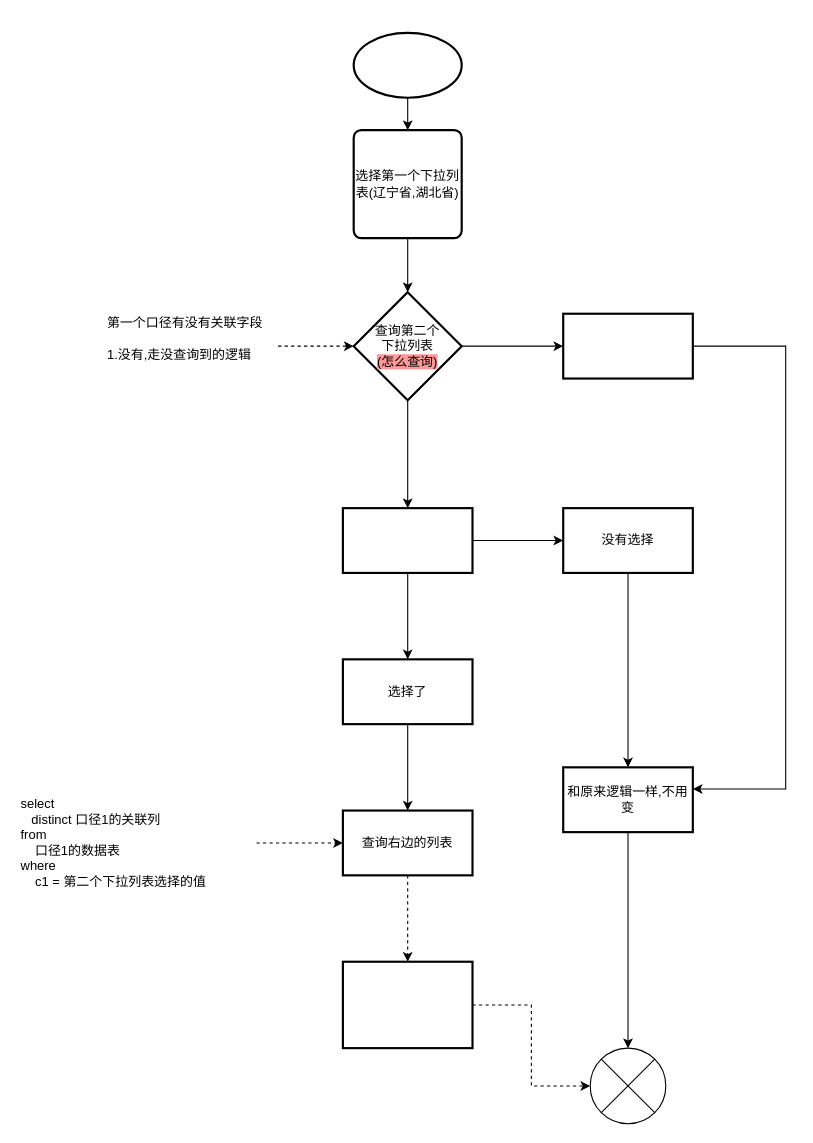
The diagram is 813 pixels wide and 1143 high, and some of its shapes have lost their labels. The shapes that lost their labels are listed below. From the top down, each one's centre as x and y in pixels, then its label:
At pixel 627 345: "没查询到".
At pixel 407 540: "查询到了".
At pixel 407 1004: "选择".
